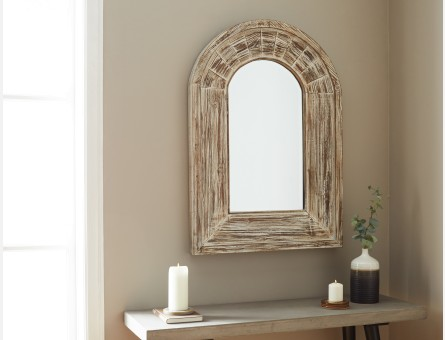Nonrec_Glass: (164, 12, 351, 258)
